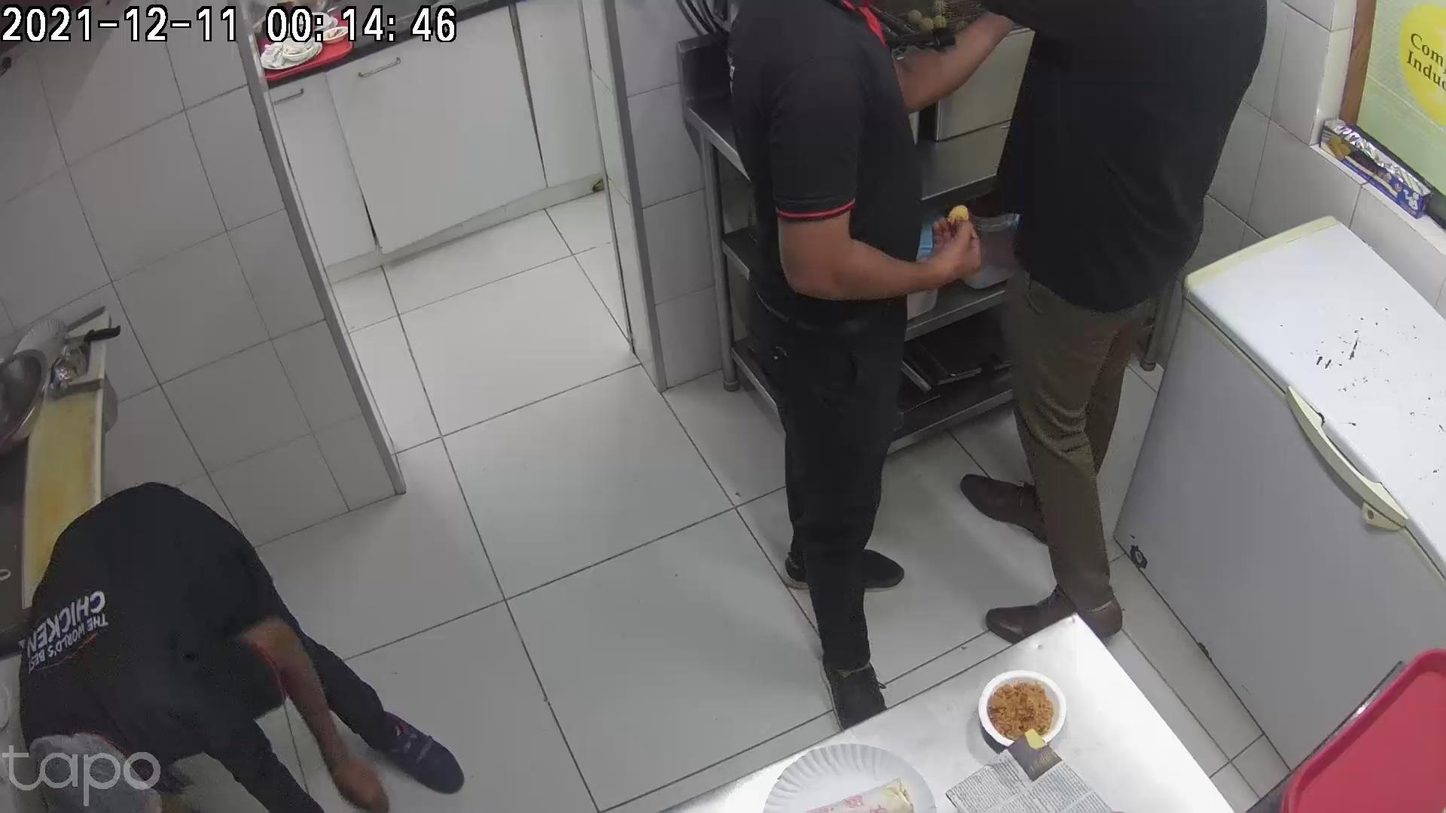no_gloves: (283, 629, 444, 771)
